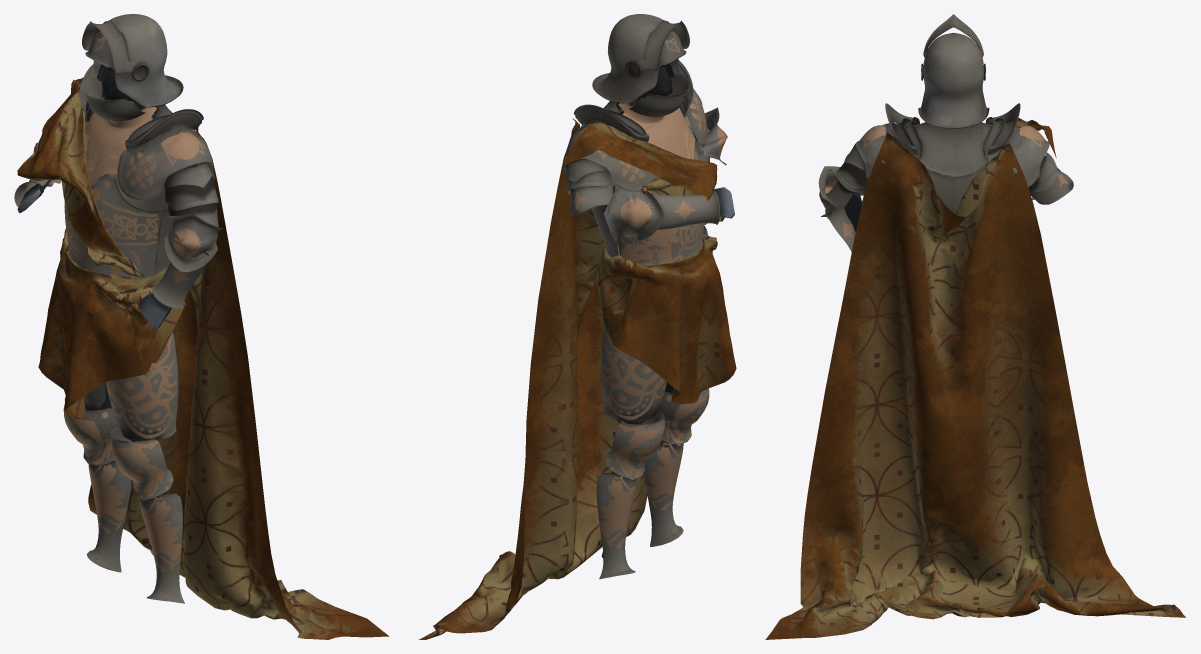
The model's file is SM_KnightArmorPoseCloth.fbx.
3 views of the same model, side by side, from view 1: azimuth 30°, elevation 25°; view 2: azimuth 150°, elevation 25°; view 3: azimuth 270°, elevation 25° (orthographic). The views are drawn at different scales.
Parts seen in each view (by area): view 1: SM_KnightArmorPoseCloth_LOD0; view 2: SM_KnightArmorPoseCloth_LOD0; view 3: SM_KnightArmorPoseCloth_LOD0.
Part boxes in pixels (x1=…): SM_KnightArmorPoseCloth_LOD0: x1=14, y1=14, x2=389, y2=639; SM_KnightArmorPoseCloth_LOD0: x1=419, y1=14, x2=736, y2=639; SM_KnightArmorPoseCloth_LOD0: x1=765, y1=14, x2=1185, y2=639.
Bounding box in the file's own units: 104 × 160 × 226.
2 materials, 2 textured.
